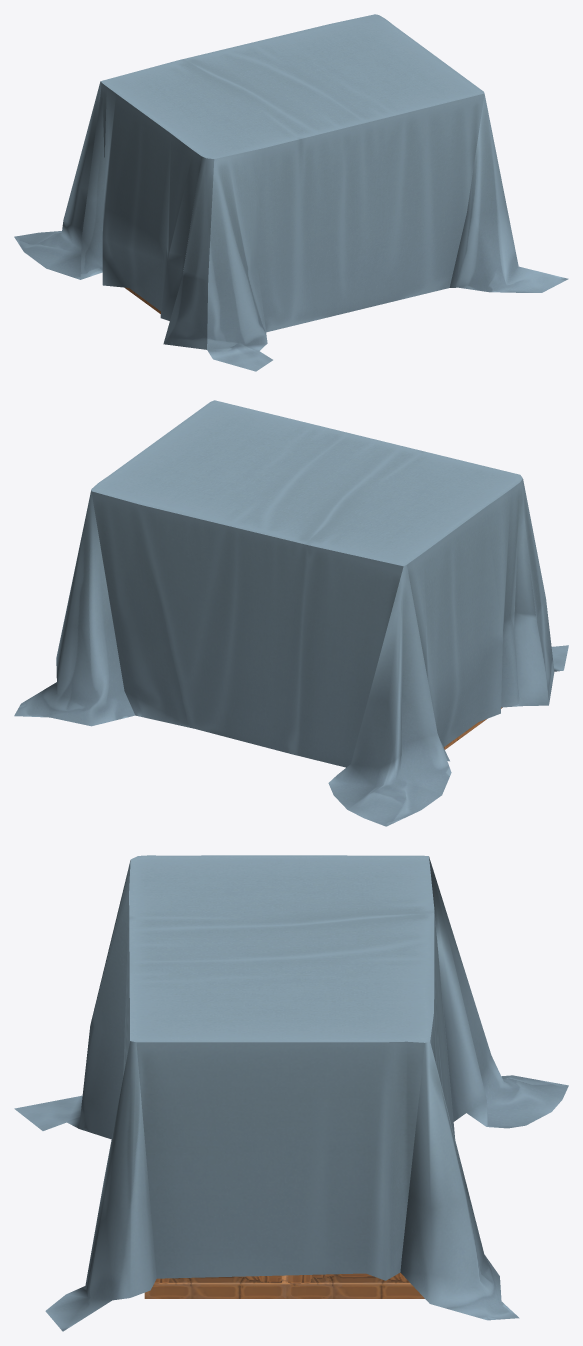
File: Pfb_Box_GRP__5.fbx
3 views of the same model, one above another, from view 1: azimuth 30°, elevation 25°; view 2: azimuth 150°, elevation 25°; view 3: azimuth 270°, elevation 25° (orthographic). The views are drawn at different scales.
Visible parts, largest first — view 1: MAT_Canvas_01_Blue_Smooth; view 2: MAT_Canvas_01_Blue_Smooth; view 3: MAT_Canvas_01_Blue_Smooth, Mat_WoodBox_01_1.
Part boxes in pixels (x1,y1,x2,y2): MAT_Canvas_01_Blue_Smooth: (14,14,568,371); MAT_Canvas_01_Blue_Smooth: (14,400,568,826); MAT_Canvas_01_Blue_Smooth: (14,855,568,1331); Mat_WoodBox_01_1: (144,1272,424,1298).
Size of the model in its own units: 3.25 by 1.53 by 2.98.
Materials: 2 (2 with a texture image).
